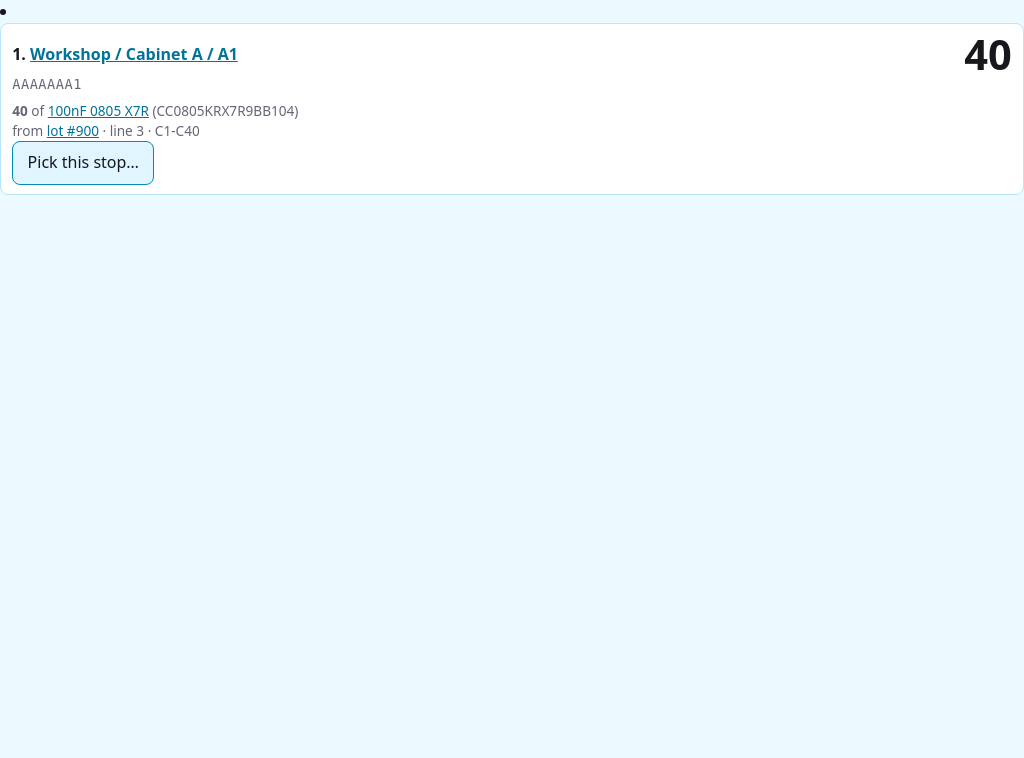
Test case: picking a stop › names the drawer you actually scanned, and the one you wanted
Click the button "Pick this stop…" at (83, 163), box [12,141,154,185]
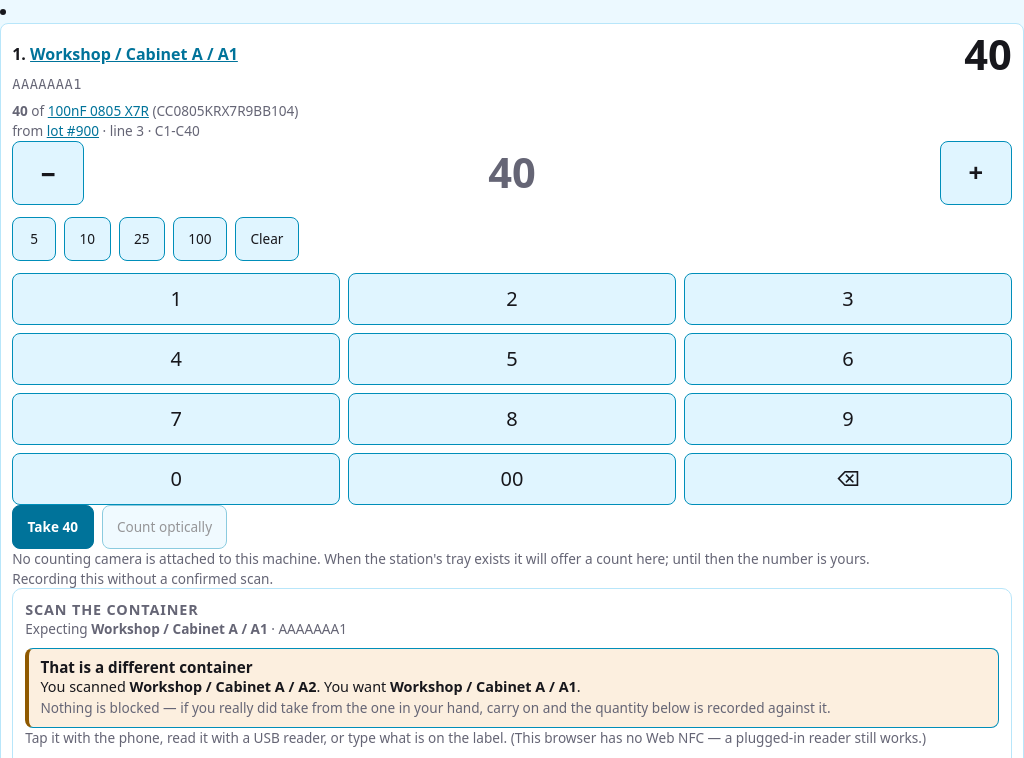
Check: the link "Workshop / Cabinet A / A1" is shown, box [30,43,238,65]
Check: the heading "That is a different container" is shown, box [40,658,253,678]
Check: the text "Workshop / Cabinet A / A2" is shown, box [130,677,316,696]
